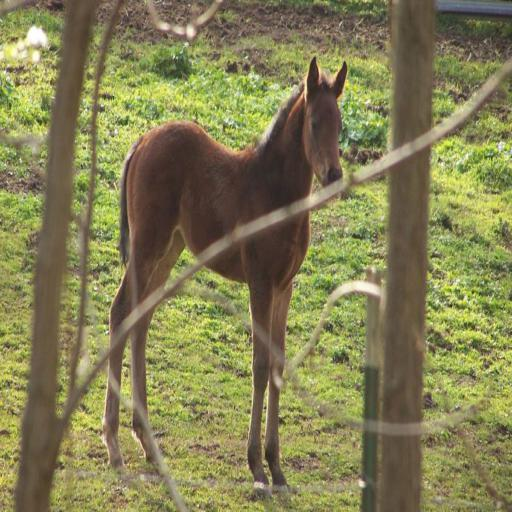horse: (100, 52, 348, 498)
